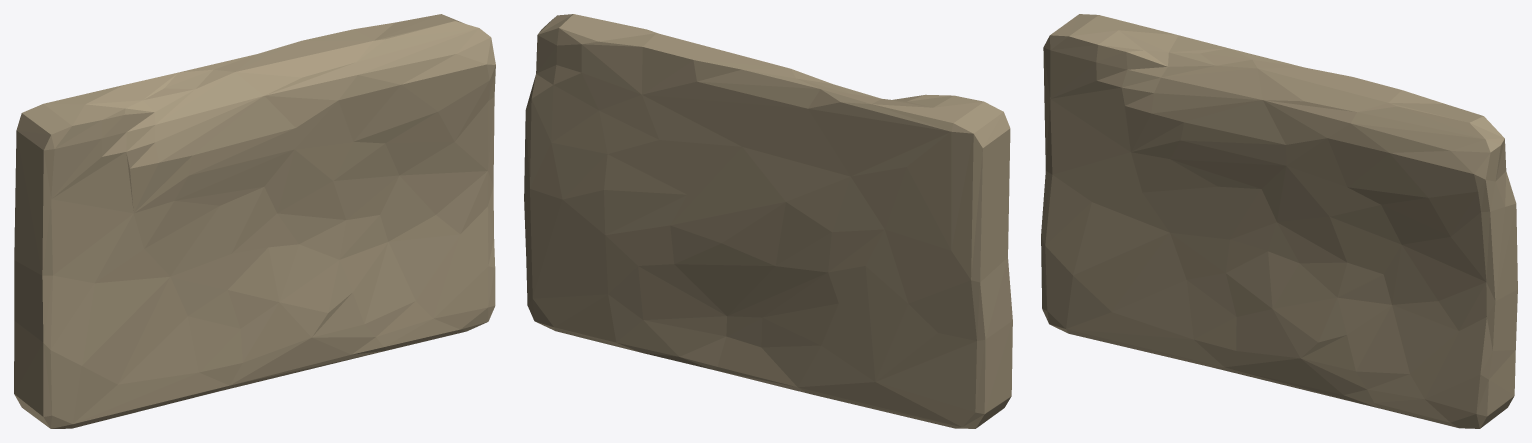
Rendered from SM_Wall_large_clay.fbx.
The picture shows the model from 3 angles, left to right: view 1: azimuth 30°, elevation 25°; view 2: azimuth 150°, elevation 25°; view 3: azimuth 330°, elevation 25°; orthographic projection. The views are drawn at different scales.
Parts seen in each view (by area): view 1: Object176; view 2: Object176; view 3: Object176.
Boxes of the visible parts, <box> form: Object176: <box>14,14,495,428</box>; Object176: <box>524,14,1012,428</box>; Object176: <box>1041,14,1517,428</box>.
Size of the model in its own units: 153 by 22.31 by 97.17.
